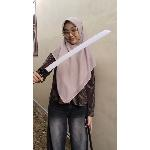Pedang: (33, 27, 117, 81)
